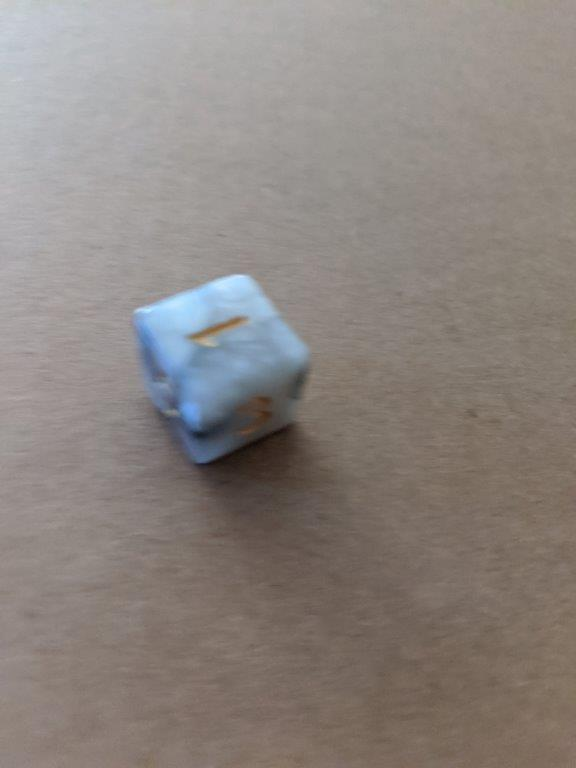d6-1: (136, 274, 311, 463)
